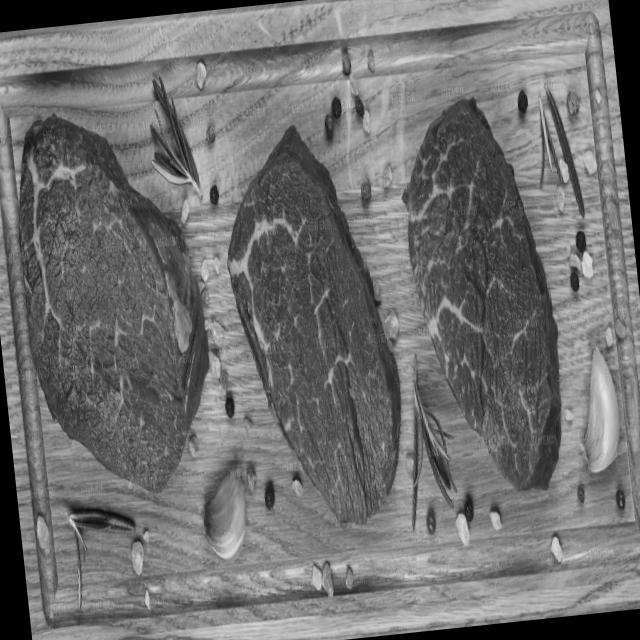than bit tet: (218, 122, 414, 544), (9, 134, 216, 504), (398, 97, 572, 494)
